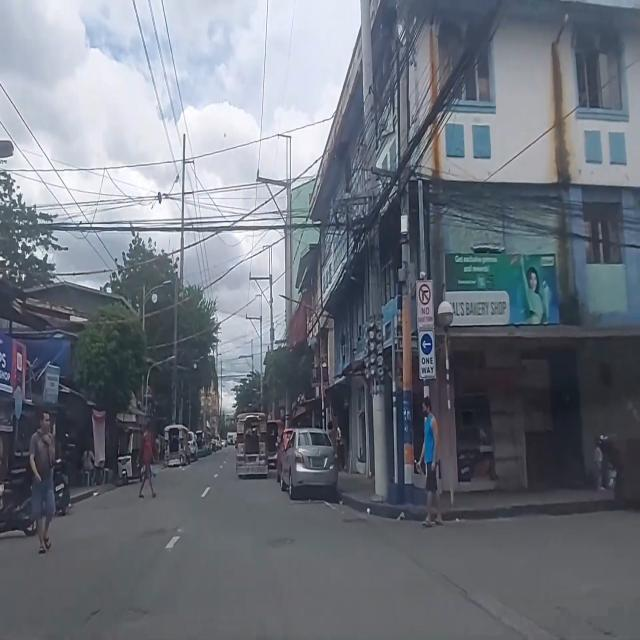car: (280, 428, 338, 500)
jeepney: (235, 412, 268, 479), (162, 424, 192, 470), (266, 418, 283, 472), (195, 430, 213, 458)
motorcycle: (0, 456, 38, 538), (52, 452, 72, 516)
tricycle: (118, 426, 144, 486)
